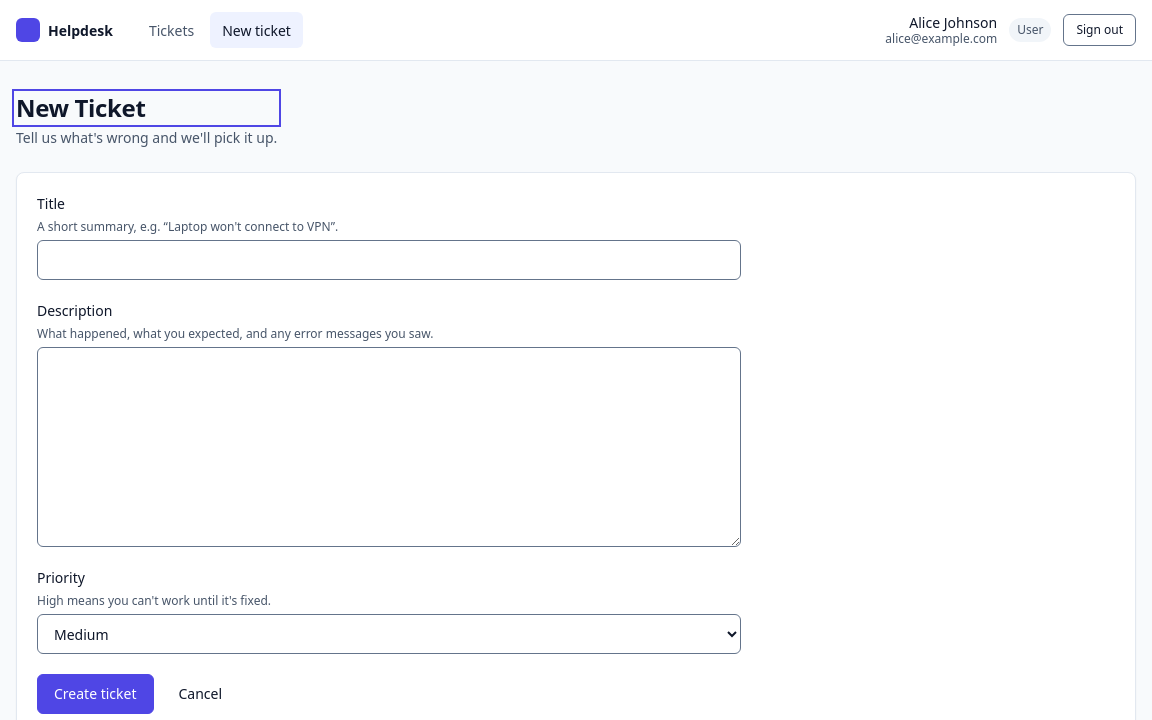
NewTicketPage › maps server validation errors onto fields and keeps the input
In the field labelled "Title": (389, 260) [37,240,741,280], type "server says no"
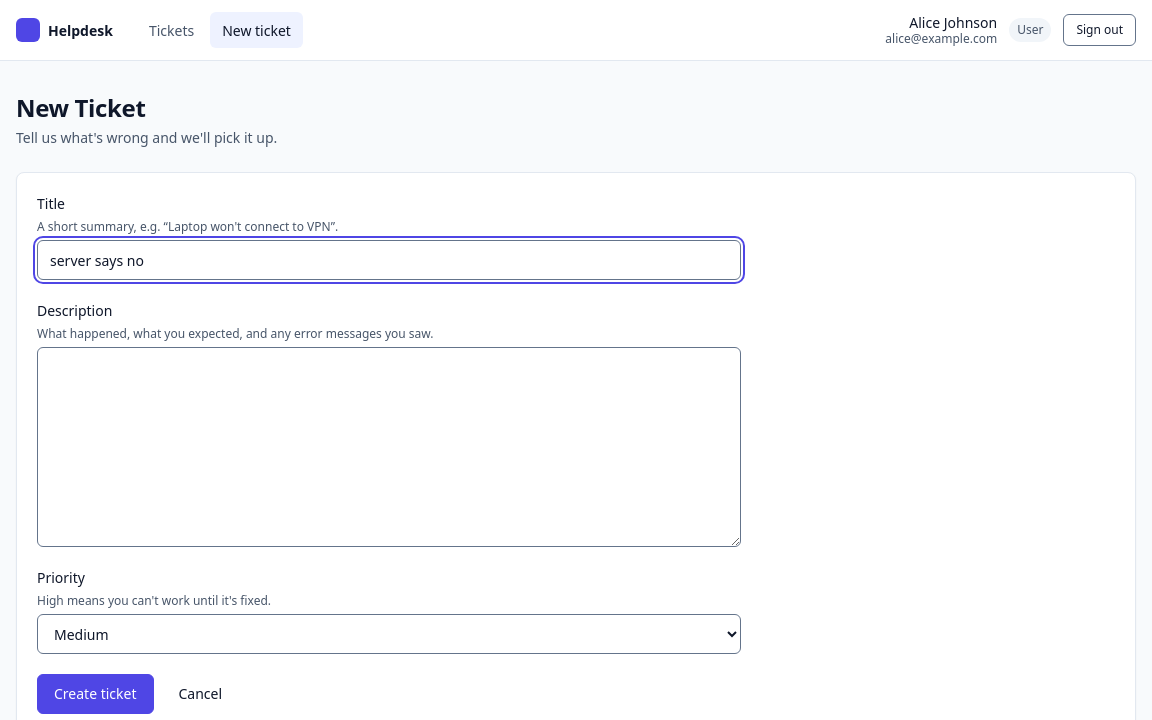
In the text box labelled "Description": (389, 447) [37,347,741,547], type "Some detail"
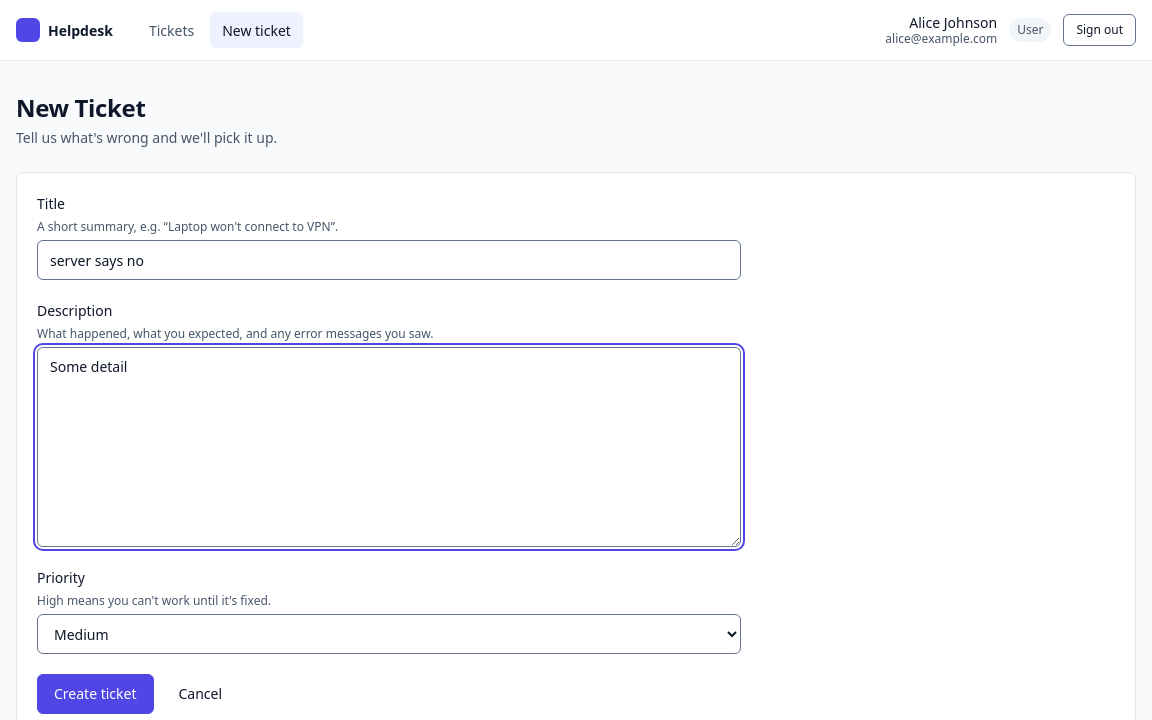
Click the button "Create ticket": click(95, 694) [37,674,154,714]
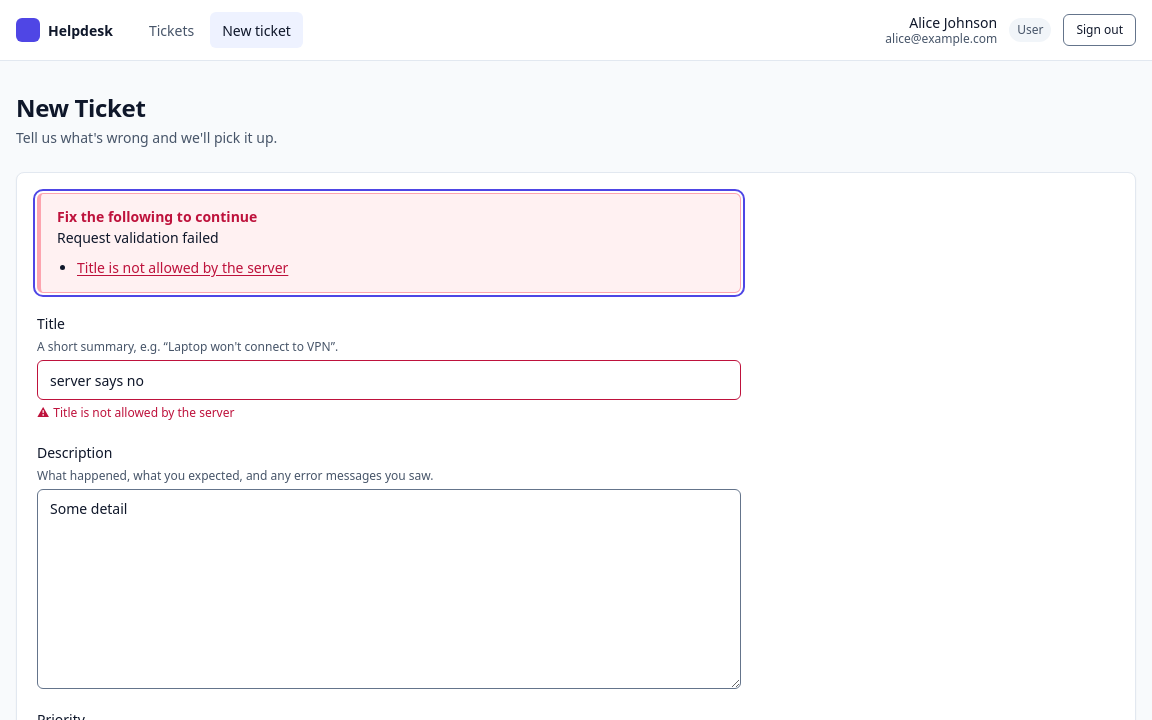
Expected: the link "Title is not allowed by the server" is shown, [77,256,288,280]
